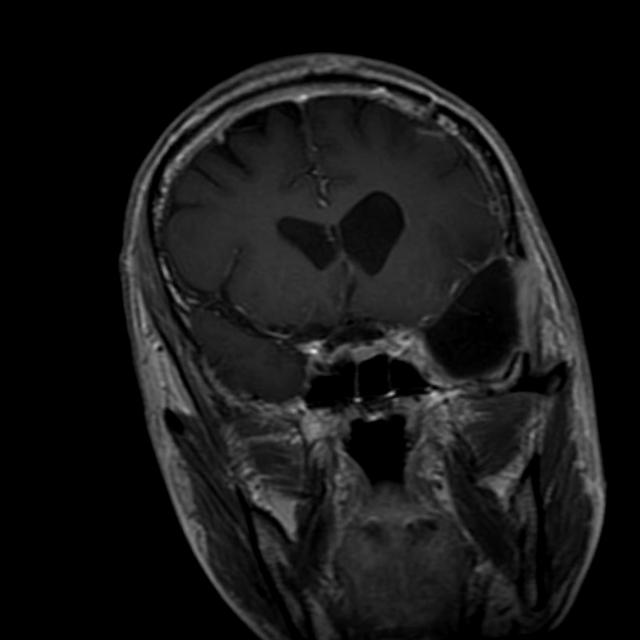Glioma: (404, 248, 536, 391)
